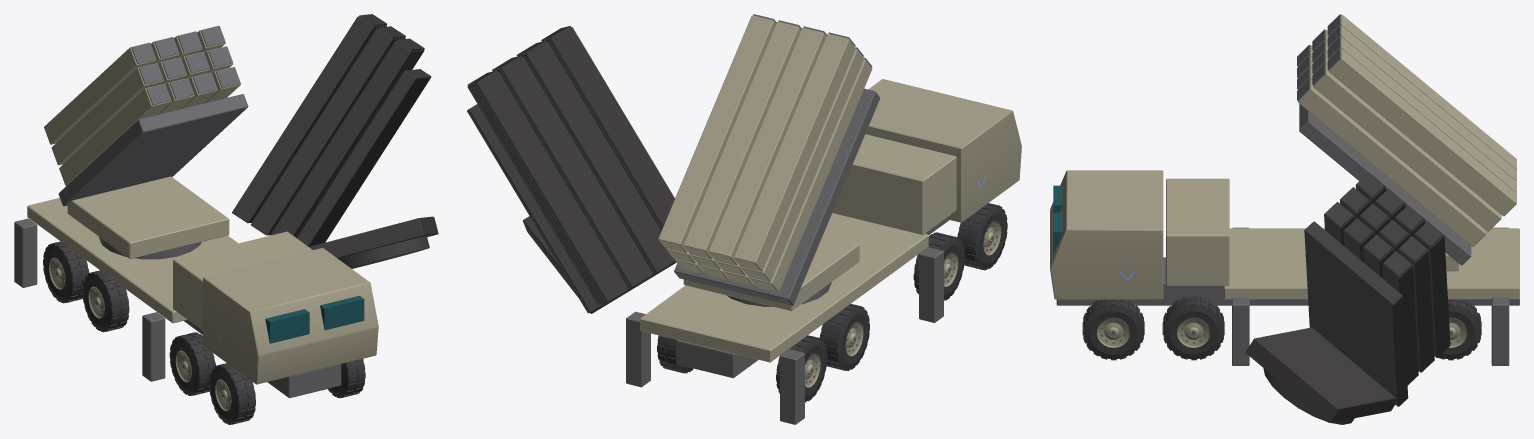
File: samLauncher__david_s_sling.glb
The picture shows the model from 3 angles, left to right: view 1: azimuth 30°, elevation 25°; view 2: azimuth 150°, elevation 25°; view 3: azimuth 270°, elevation 25°; orthographic projection. The views are drawn at different scales.
Visible parts, largest first — view 1: Hull_Mesh, Wreck, Gun_Mesh, Turret_Mesh, Wheel_L3_Mesh, Wheel_L1_Mesh, Wheel_L2_Mesh, Wheel_L0_Mesh, Wheel_R3_Mesh; view 2: Hull_Mesh, Gun_Mesh, Wreck, Turret_Mesh, Wheel_L3_Mesh, Wheel_L1_Mesh, Wheel_L2_Mesh, Wheel_L0_Mesh, Wheel_R0_Mesh; view 3: Hull_Mesh, Wreck, Gun_Mesh, Wheel_R2_Mesh, Wheel_R3_Mesh, Wheel_R0_Mesh.
Boxes of the visible parts, bbox=[...] form: Hull_Mesh: bbox=[14, 198, 378, 398]; Wreck: bbox=[58, 14, 438, 392]; Gun_Mesh: bbox=[44, 25, 248, 206]; Turret_Mesh: bbox=[67, 176, 229, 259]; Wheel_L3_Mesh: bbox=[209, 363, 255, 424]; Wheel_L1_Mesh: bbox=[82, 270, 129, 332]; Wheel_L2_Mesh: bbox=[169, 332, 215, 395]; Wheel_L0_Mesh: bbox=[43, 241, 89, 303]; Wheel_R3_Mesh: bbox=[328, 359, 365, 398]; Hull_Mesh: bbox=[626, 79, 1021, 424]; Gun_Mesh: bbox=[658, 14, 880, 305]; Wreck: bbox=[467, 26, 992, 371]; Turret_Mesh: bbox=[683, 235, 859, 311]; Wheel_L3_Mesh: bbox=[957, 203, 1007, 270]; Wheel_L1_Mesh: bbox=[819, 304, 869, 370]; Wheel_L2_Mesh: bbox=[913, 232, 964, 300]; Wheel_L0_Mesh: bbox=[776, 335, 826, 402]; Wheel_R0_Mesh: bbox=[657, 335, 693, 373]; Hull_Mesh: bbox=[1050, 170, 1519, 365]; Wreck: bbox=[1245, 172, 1450, 424]; Gun_Mesh: bbox=[1297, 14, 1516, 265]; Wheel_R2_Mesh: bbox=[1162, 296, 1224, 360]; Wheel_R3_Mesh: bbox=[1082, 299, 1144, 360]; Wheel_R0_Mesh: bbox=[1438, 299, 1481, 360].
Size of what is drawn, in the model's own units: 7.62 by 5.86 by 8.5.
